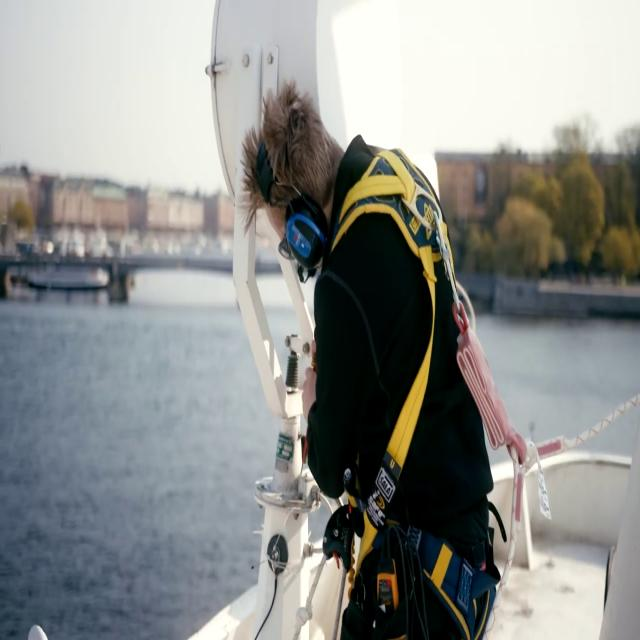earmuff: (279, 188, 330, 276)
